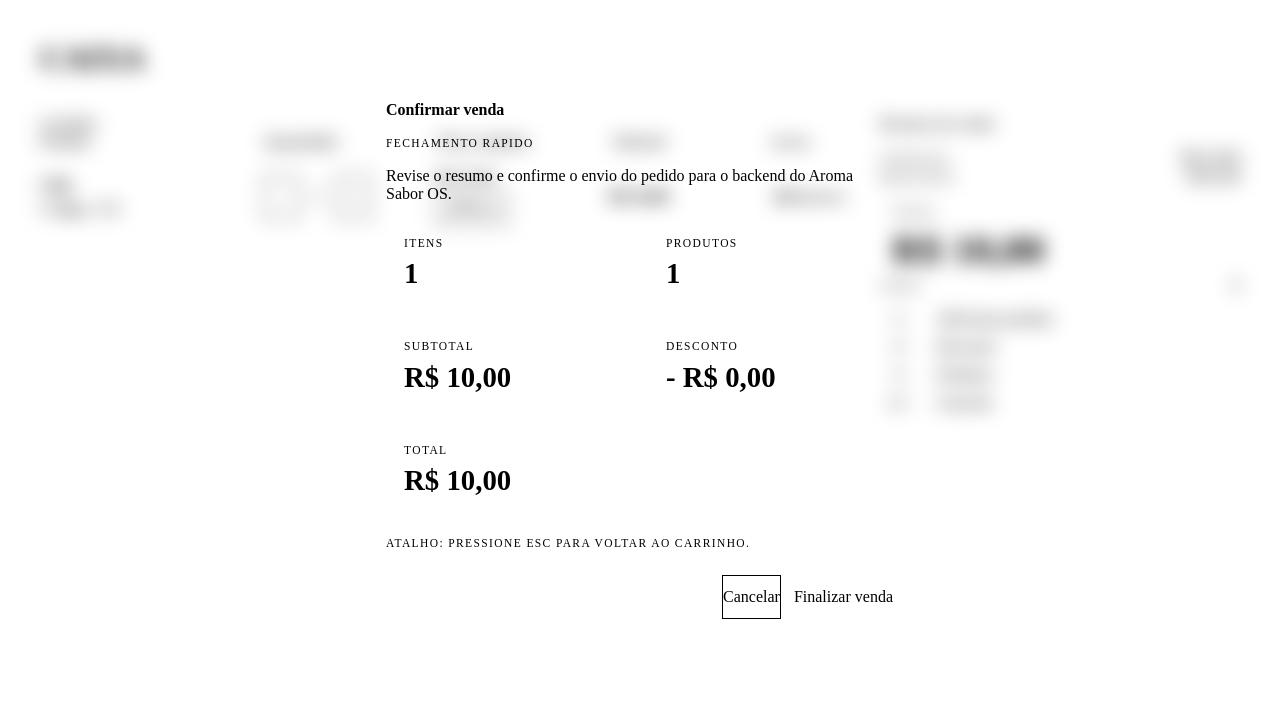
CaixaPage checkout flow › sucesso limpa carrinho e fecha checkout
Click the button "Finalizar venda".
click(843, 597)  # box [793,575,894,619]
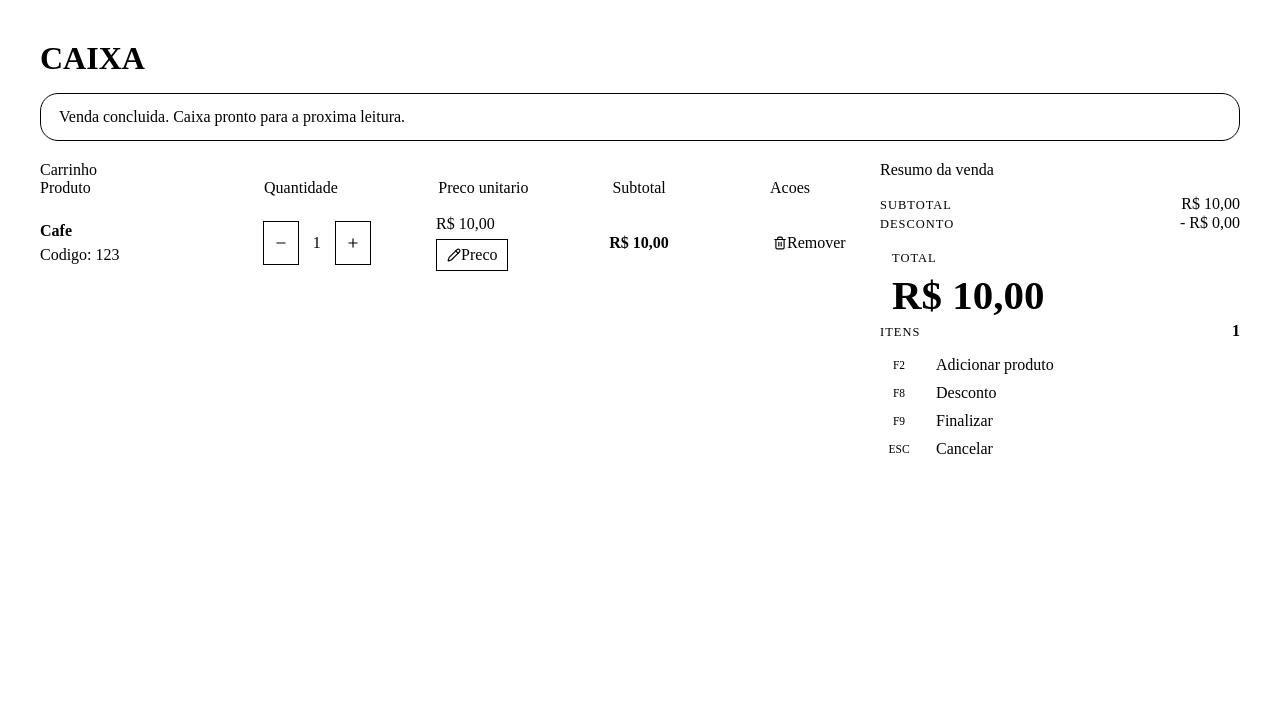
expect the text "Confirmar venda" is gone: met
